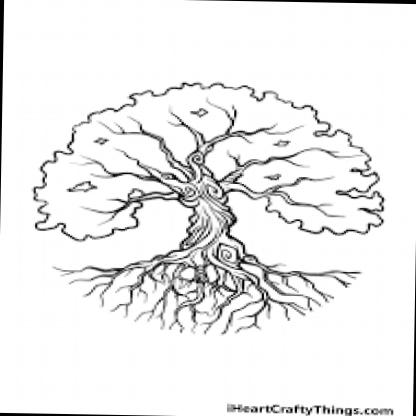branch_sharp: (82, 110, 336, 218)
crown_cloud: (27, 74, 390, 246)
root_only: (48, 245, 363, 339)
trunk_bark: (177, 208, 242, 238)
